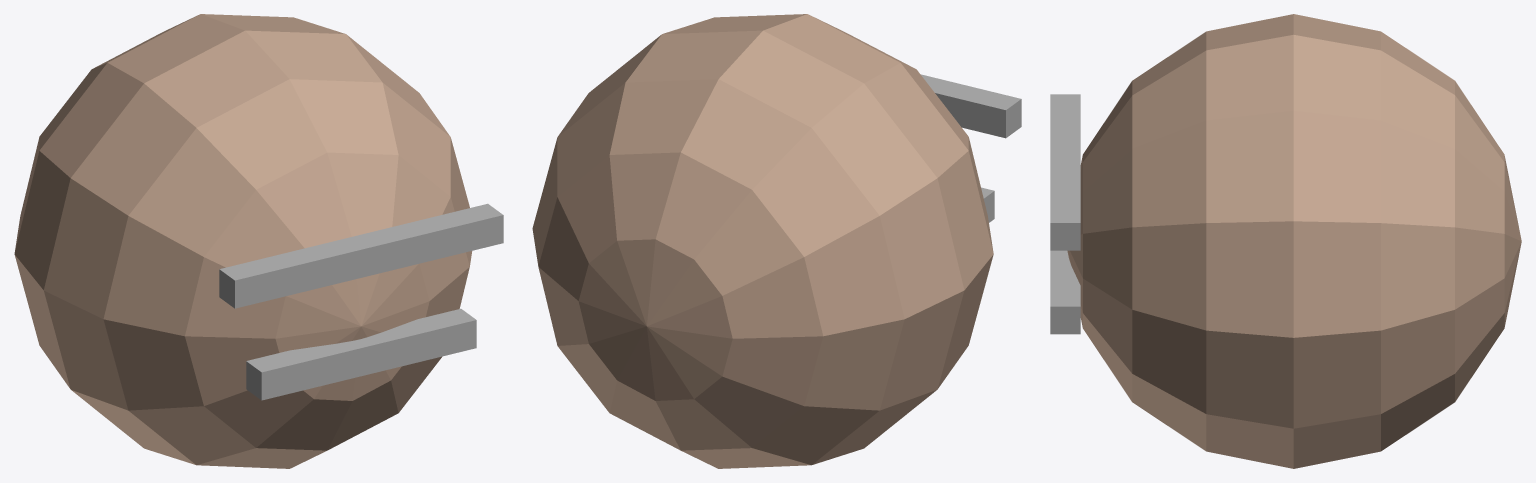
The model's file is face_detail_placeholder.glb.
3 renders of one model, left to right at view 1: azimuth 30°, elevation 25°; view 2: azimuth 150°, elevation 25°; view 3: azimuth 270°, elevation 25°, orthographic.
Visible parts, largest first — view 1: head, line1, line2; view 2: head, line1; view 3: head, line1, line2.
Boxes of the visible parts, <box> form: head: <box>14,14,472,468</box>; line1: <box>219,203,503,308</box>; line2: <box>246,308,476,400</box>; head: <box>532,14,993,468</box>; line1: <box>921,74,1021,138</box>; head: <box>1067,14,1521,468</box>; line1: <box>1050,94,1080,250</box>; line2: <box>1050,250,1080,334</box>.
Size of the model in its own units: 0.2998 by 0.2998 by 0.3099.
